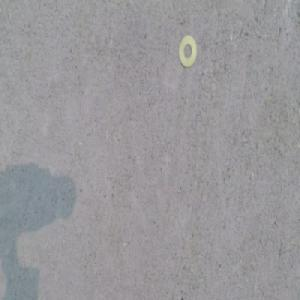Washer: (179, 34, 198, 64)
